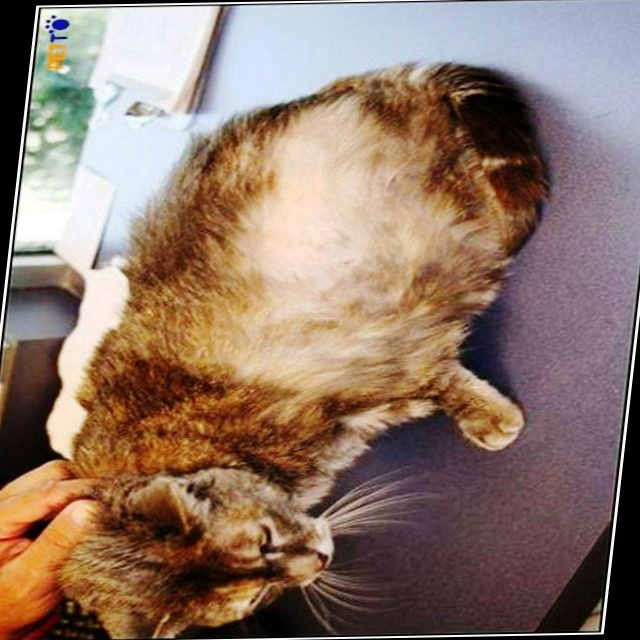hairloss: (242, 112, 370, 301)
